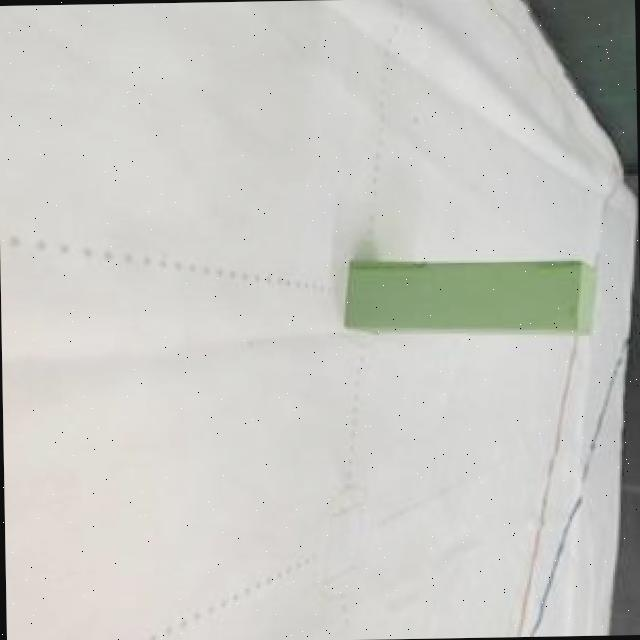greenbox: (343, 257, 596, 343)
